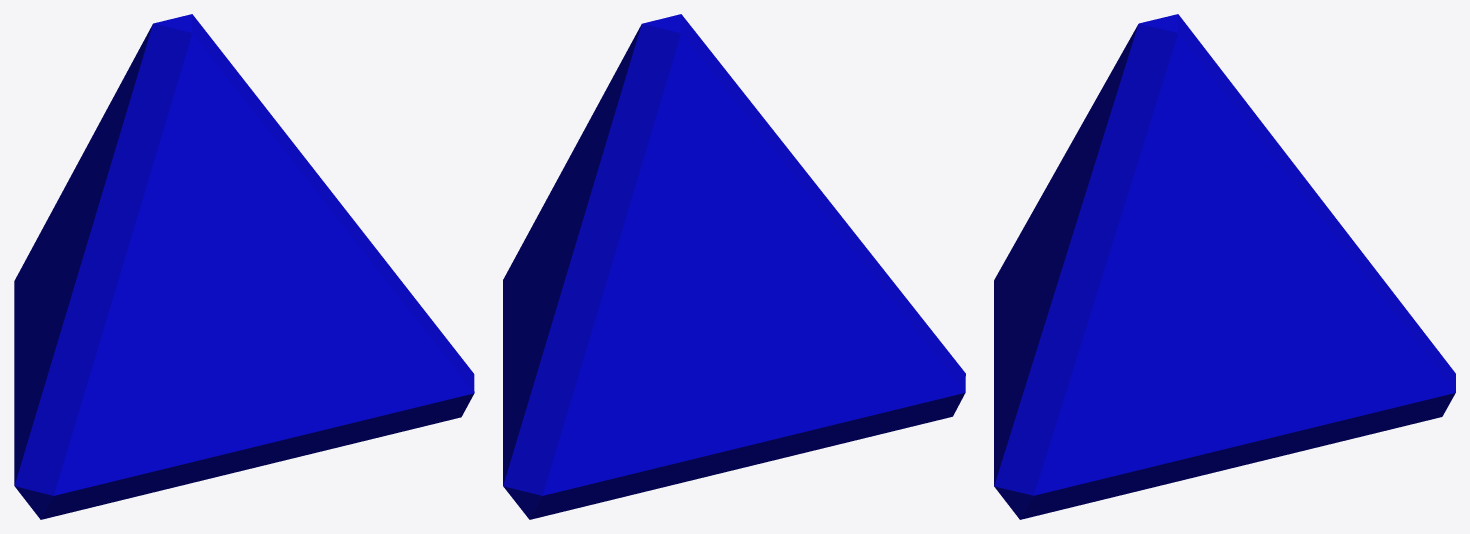
The model's file is die4.gltf.
The picture shows the model from 3 angles, left to right: view 1: azimuth 30°, elevation 25°; view 2: azimuth 150°, elevation 25°; view 3: azimuth 270°, elevation 25°; orthographic projection.
Visible parts, largest first — view 1: Die4; view 2: Die4; view 3: Die4.
Boxes of the visible parts, <box> form: Die4: <box>14,14,474,519</box>; Die4: <box>503,14,965,519</box>; Die4: <box>994,14,1455,519</box>.
Bounding box in the file's own units: 1.48 × 1.2 × 1.28.
